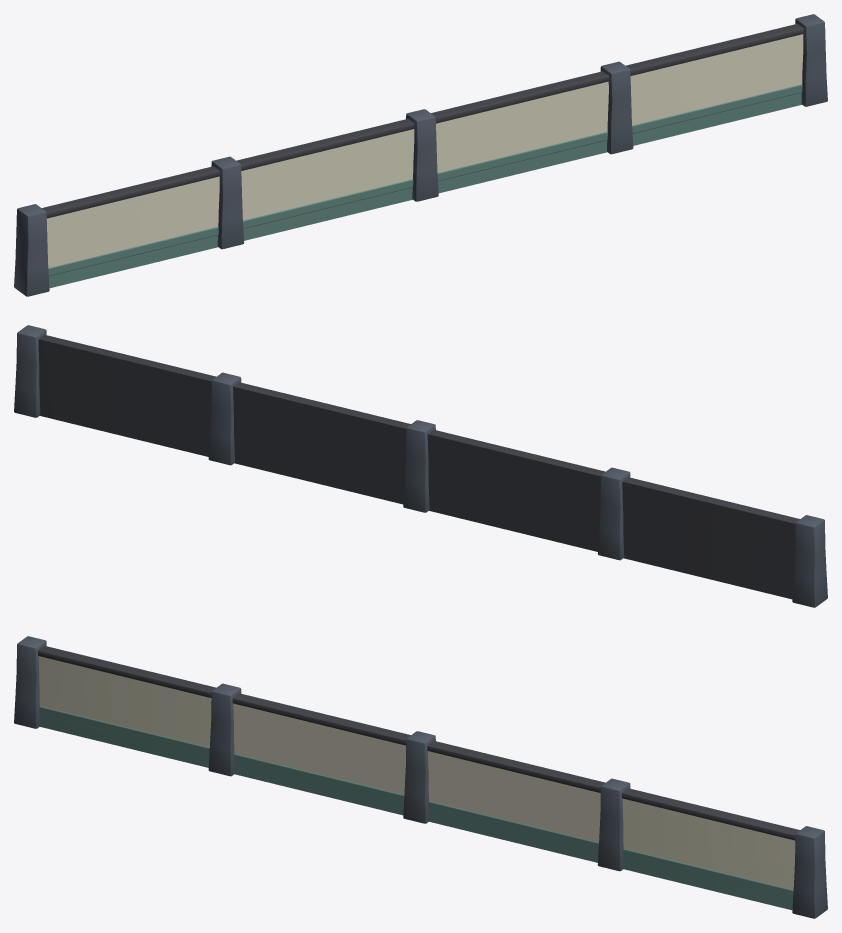
The model's file is MDL_Env_walllong.fbx.
3 views of the same model, one above another, from view 1: azimuth 30°, elevation 25°; view 2: azimuth 150°, elevation 25°; view 3: azimuth 330°, elevation 25° (orthographic).
Parts seen in each view (by area): view 1: mesh_wall_landscape; view 2: mesh_wall_landscape; view 3: mesh_wall_landscape.
Boxes of the visible parts, x1=… form: mesh_wall_landscape: x1=14, y1=14, x2=827, y2=296; mesh_wall_landscape: x1=14, y1=325, x2=827, y2=607; mesh_wall_landscape: x1=14, y1=636, x2=827, y2=918.
Bounding box in the file's own units: 2637 × 252 × 76.79.
1 material, 1 textured.
